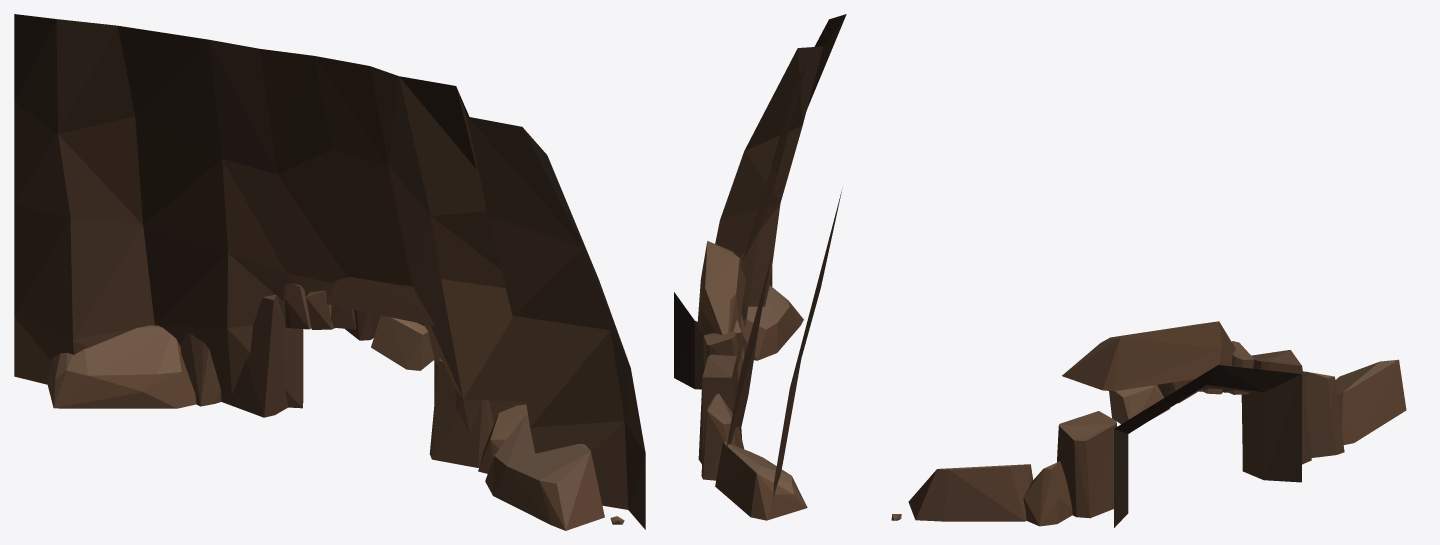
Rendered from tl_cave_main_wall_00_v01.glb.
3 views of the same model, side by side, from view 1: azimuth 30°, elevation 25°; view 2: azimuth 150°, elevation 25°; view 3: azimuth 270°, elevation 25° (orthographic). The views are drawn at different scales.
Parts seen in each view (by area): view 1: tl_cave_main_wall_00_v01; view 2: tl_cave_main_wall_00_v01; view 3: tl_cave_main_wall_00_v01.
Part boxes in pixels (left/top/right/bottom): tl_cave_main_wall_00_v01: left=14, top=14, right=645, bottom=530; tl_cave_main_wall_00_v01: left=674, top=14, right=846, bottom=520; tl_cave_main_wall_00_v01: left=891, top=321, right=1406, bottom=527.
Size of the model in its own units: 14.23 by 15.26 by 20.78.
